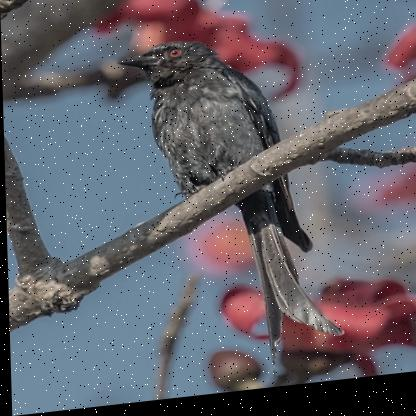Burung: (111, 29, 341, 391)
